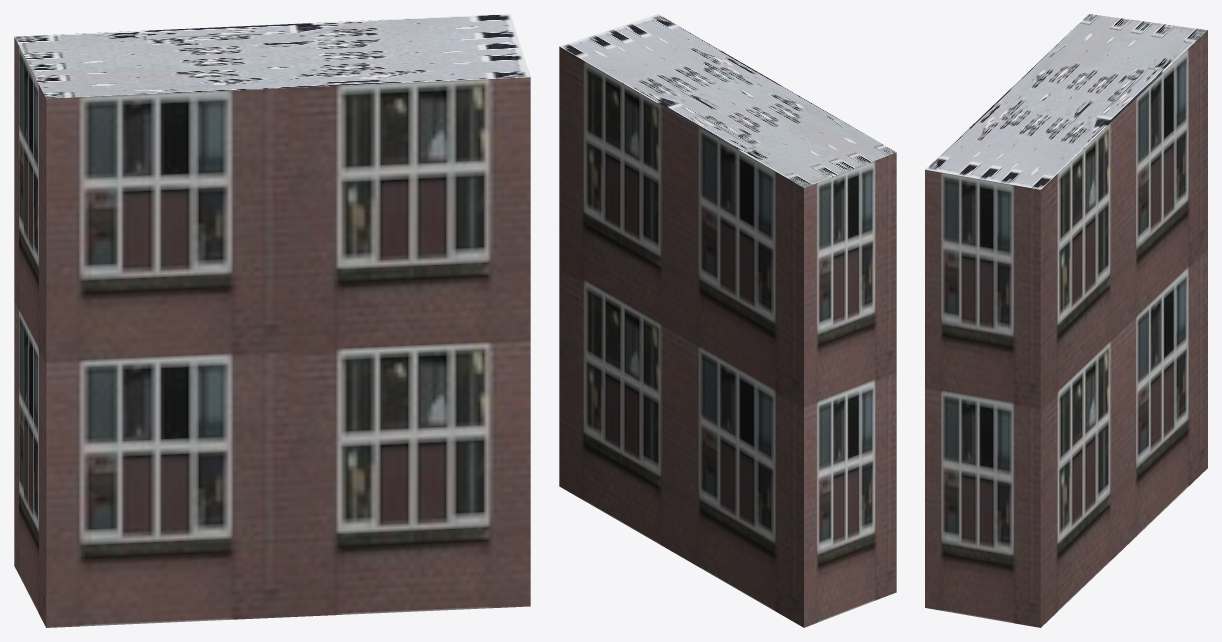
The model's file is ResTex__2626.fbx.
3 renders of one model, left to right at view 1: azimuth 30°, elevation 25°; view 2: azimuth 150°, elevation 25°; view 3: azimuth 270°, elevation 25°, orthographic. The views are drawn at different scales.
Visible parts, largest first — view 1: CityEngineMaterial_12_m, CityEngineMaterial_2_m; view 2: CityEngineMaterial_12_m, CityEngineMaterial_2_m; view 3: CityEngineMaterial_12_m, CityEngineMaterial_2_m.
Boxes of the visible parts, x1,y1,x2,y2 form: CityEngineMaterial_12_m: (14, 37, 530, 627); CityEngineMaterial_2_m: (14, 14, 530, 98); CityEngineMaterial_12_m: (559, 46, 896, 627); CityEngineMaterial_2_m: (559, 14, 896, 187); CityEngineMaterial_12_m: (925, 30, 1207, 627); CityEngineMaterial_2_m: (925, 14, 1207, 189).
Size of the model in its own units: 5.16 by 6 by 3.51.
2 materials, 2 textured.
